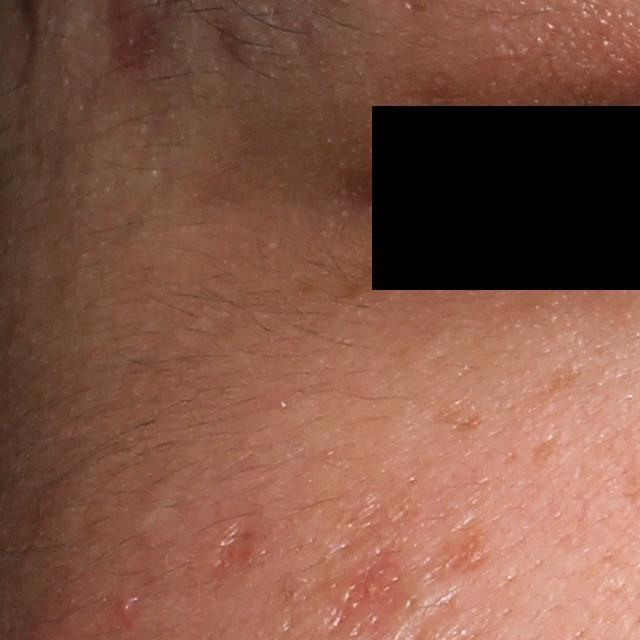atrophic_scar: (211, 509, 272, 576)
melasma: (338, 243, 429, 304), (431, 523, 499, 587), (541, 355, 585, 404), (529, 431, 560, 475)
papule: (114, 587, 145, 619)
